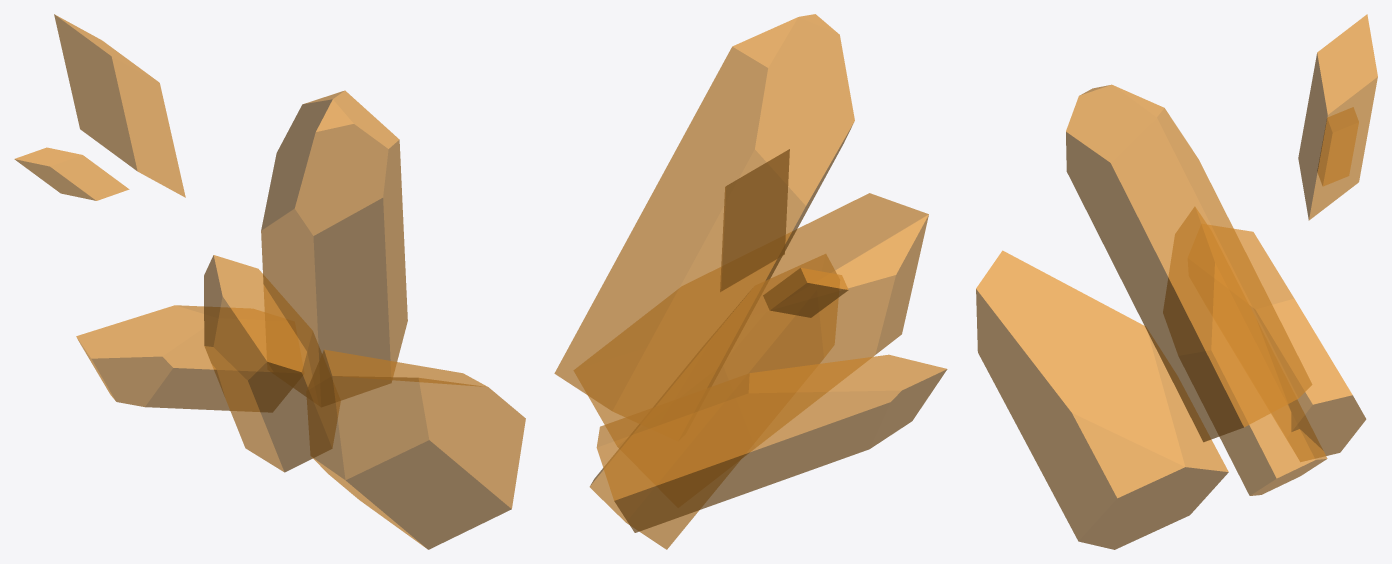
Rendered from crystal_right_top.gltf.
3 views of the same model, side by side, from view 1: azimuth 30°, elevation 25°; view 2: azimuth 150°, elevation 25°; view 3: azimuth 270°, elevation 25° (orthographic). The views are drawn at different scales.
Visible parts, largest first — view 1: Cylinder.008, Cylinder, Cylinder.006, Cylinder.007, Cube.019, Cube.020; view 2: Cylinder.008, Cylinder, Cylinder.007, Cylinder.006, Cube.019, Cube.020; view 3: Cylinder, Cylinder.008, Cylinder.006, Cylinder.007, Cube.019, Cube.020.
Boxes of the visible parts, <box> form: Cylinder.008: <box>261,90,407,406</box>; Cylinder: <box>306,349,525,549</box>; Cylinder.006: <box>204,255,340,472</box>; Cylinder.007: <box>76,305,292,411</box>; Cube.019: <box>54,14,185,197</box>; Cube.020: <box>14,147,129,200</box>; Cylinder.008: <box>554,14,854,430</box>; Cylinder: <box>574,193,928,456</box>; Cylinder.007: <box>596,354,947,532</box>; Cylinder.006: <box>589,253,839,549</box>; Cube.019: <box>720,149,789,292</box>; Cube.020: <box>763,267,848,317</box>; Cylinder: <box>976,250,1228,549</box>; Cylinder.008: <box>1066,84,1312,442</box>; Cylinder.006: <box>1163,207,1327,495</box>; Cylinder.007: <box>1208,225,1366,461</box>; Cube.019: <box>1298,14,1377,220</box>; Cube.020: <box>1318,107,1358,185</box>.
Bounding box in the file's own units: 3.31 × 3.99 × 3.34.
